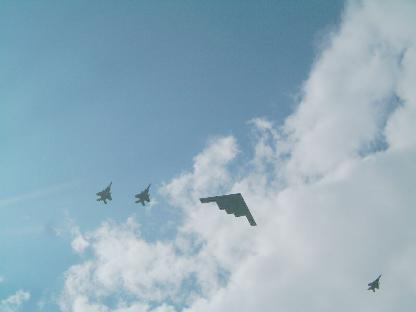B1: (198, 192, 256, 226)
F117: (96, 181, 112, 204), (134, 183, 150, 205), (367, 274, 381, 292)
